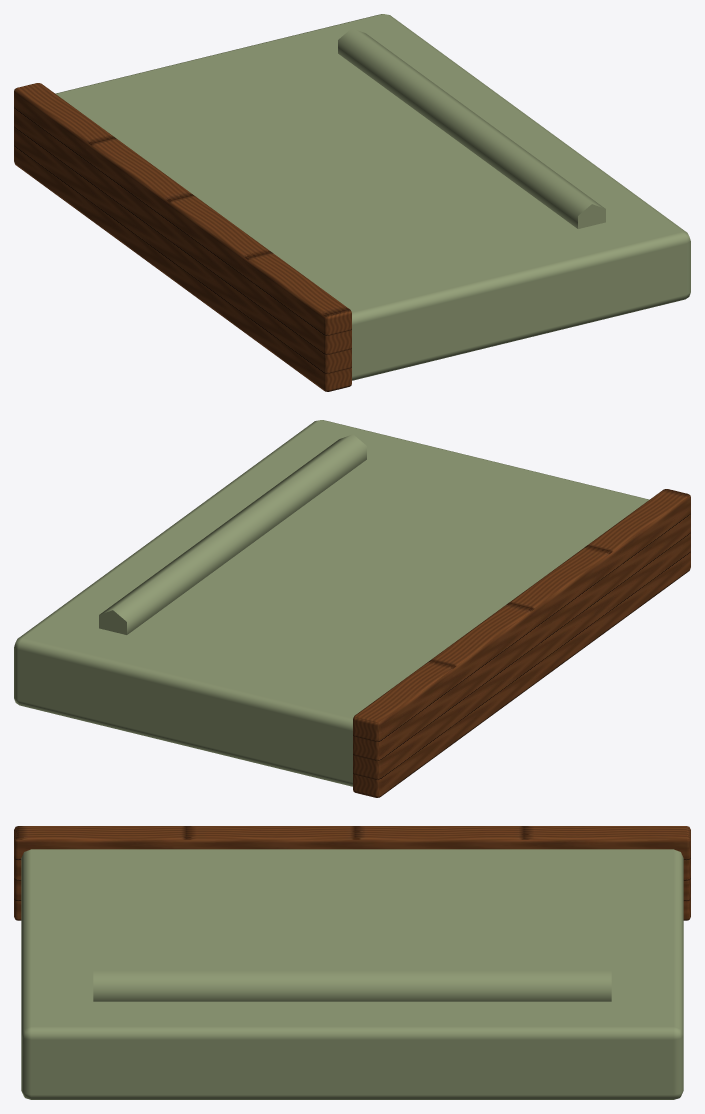
The model's file is prehistoric-expedition-sites-field-journal-72347536__26138.glb.
The picture shows the model from 3 angles, top to bottom: view 1: azimuth 30°, elevation 25°; view 2: azimuth 150°, elevation 25°; view 3: azimuth 270°, elevation 25°; orthographic projection. The views are drawn at different scales.
Visible parts, largest first — view 1: field-journal; view 2: field-journal; view 3: field-journal.
Boxes of the visible parts, left/top/right/bottom form: field-journal: left=14, top=14, right=690, bottom=391; field-journal: left=14, top=420, right=690, bottom=797; field-journal: left=14, top=826, right=690, bottom=1099.
Size of the model in its own units: 0.161 by 0.037 by 0.235.
Materials: 3 (1 with a texture image).
